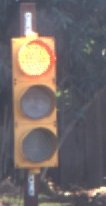Red: (6, 26, 68, 178)
